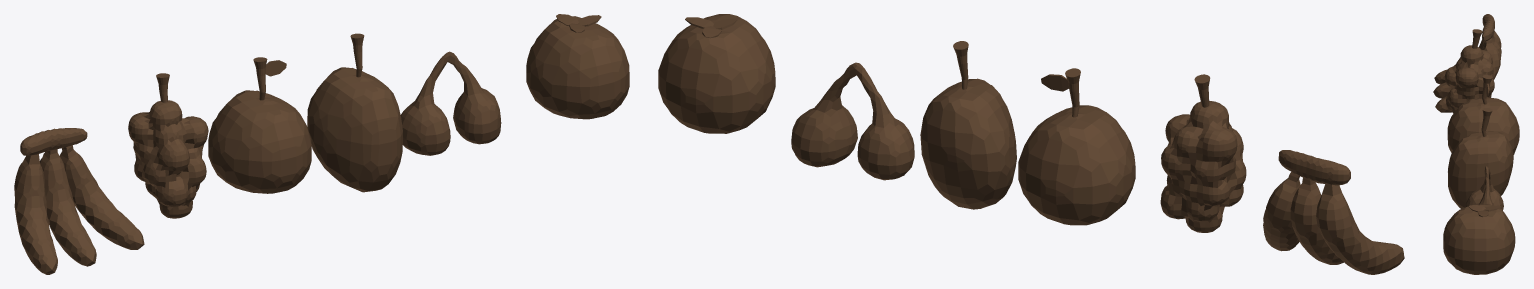
Rendered from SpaceJuice_SpaceJuice.fbx.
3 views of the same model, side by side, from view 1: azimuth 30°, elevation 25°; view 2: azimuth 150°, elevation 25°; view 3: azimuth 270°, elevation 25° (orthographic). The views are drawn at different scales.
Parts seen in each view (by area): view 1: Sphere.046, Sphere.049, Sphere.048, Sphere.050, Sphere.052, Sphere.051; view 2: Sphere.048, Sphere.050, Sphere.049, Sphere.046, Sphere.052, Sphere.051; view 3: Sphere.050, Sphere.049, Sphere.048, Sphere.052, Sphere.046, Sphere.051.
Boxes of the visible parts, x1,y1,x2,y2 form: Sphere.046: (14, 128, 144, 274); Sphere.049: (307, 33, 402, 192); Sphere.048: (208, 57, 311, 193); Sphere.050: (526, 14, 629, 119); Sphere.052: (128, 73, 208, 218); Sphere.051: (400, 51, 501, 155); Sphere.048: (1018, 68, 1135, 225); Sphere.050: (658, 14, 775, 133); Sphere.049: (920, 41, 1016, 209); Sphere.046: (1263, 150, 1404, 274); Sphere.052: (1160, 74, 1246, 232); Sphere.051: (791, 62, 914, 180); Sphere.050: (1443, 204, 1515, 274); Sphere.049: (1448, 108, 1513, 208); Sphere.048: (1447, 75, 1519, 154); Sphere.052: (1444, 29, 1494, 113); Sphere.046: (1433, 14, 1501, 112); Sphere.051: (1466, 166, 1503, 210).
Size of the model in its own units: 1265 by 320 by 224.
